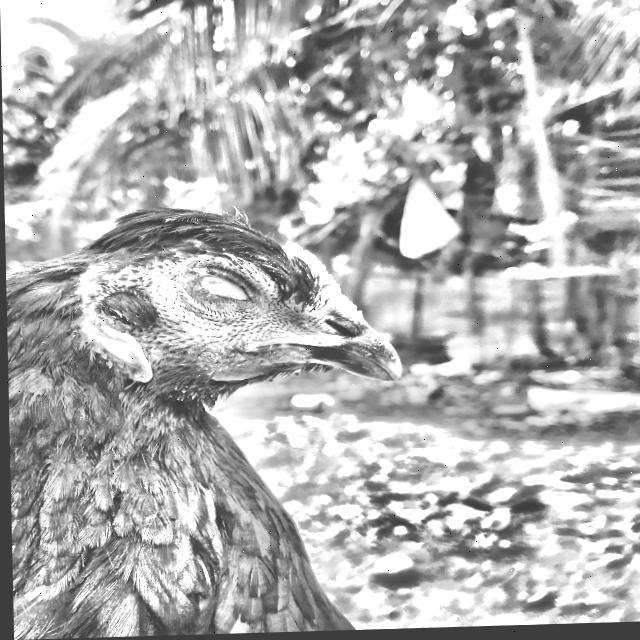Coryza: (4, 186, 476, 640)
